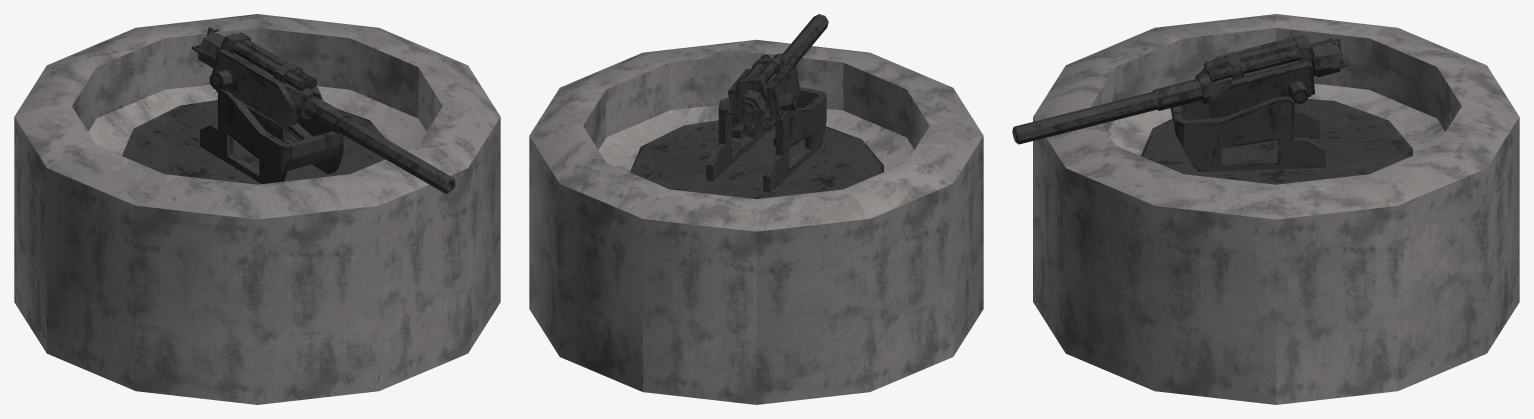
The model's file is Gunmaggedon Coastal Gun 203 Wreckage.fbx.
3 renders of one model, left to right at view 1: azimuth 30°, elevation 25°; view 2: azimuth 150°, elevation 25°; view 3: azimuth 270°, elevation 25°, orthographic. The views are drawn at different scales.
Visible parts, largest first — view 1: concrete.002, traverse.002, gun.002, barrel.002; view 2: concrete.002, traverse.002, gun.002, barrel.002; view 3: concrete.002, traverse.002, gun.002, barrel.002.
Boxes of the visible parts, x1,y1,x2,y2 form: concrete.002: [14, 14, 500, 404]; traverse.002: [122, 89, 385, 184]; gun.002: [191, 27, 351, 134]; barrel.002: [338, 117, 455, 193]; concrete.002: [529, 39, 983, 404]; traverse.002: [630, 87, 883, 199]; gun.002: [719, 51, 800, 133]; barrel.002: [784, 14, 828, 63]; concrete.002: [1033, 14, 1519, 404]; traverse.002: [1141, 96, 1412, 184]; gun.002: [1153, 34, 1347, 118]; barrel.002: [1012, 91, 1158, 144].
Bounding box in the file's own units: 1800 × 1061 × 1877.
2 materials, 2 textured.
